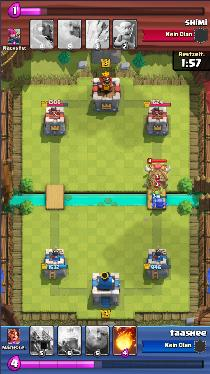ally_mini_pekka: (151, 197, 167, 210)
enemy_goblin_hut: (144, 163, 171, 188)
enemy_spear_goblin: (149, 183, 163, 192), (150, 190, 161, 200)
